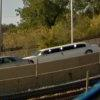Car: (19, 36, 100, 66)
